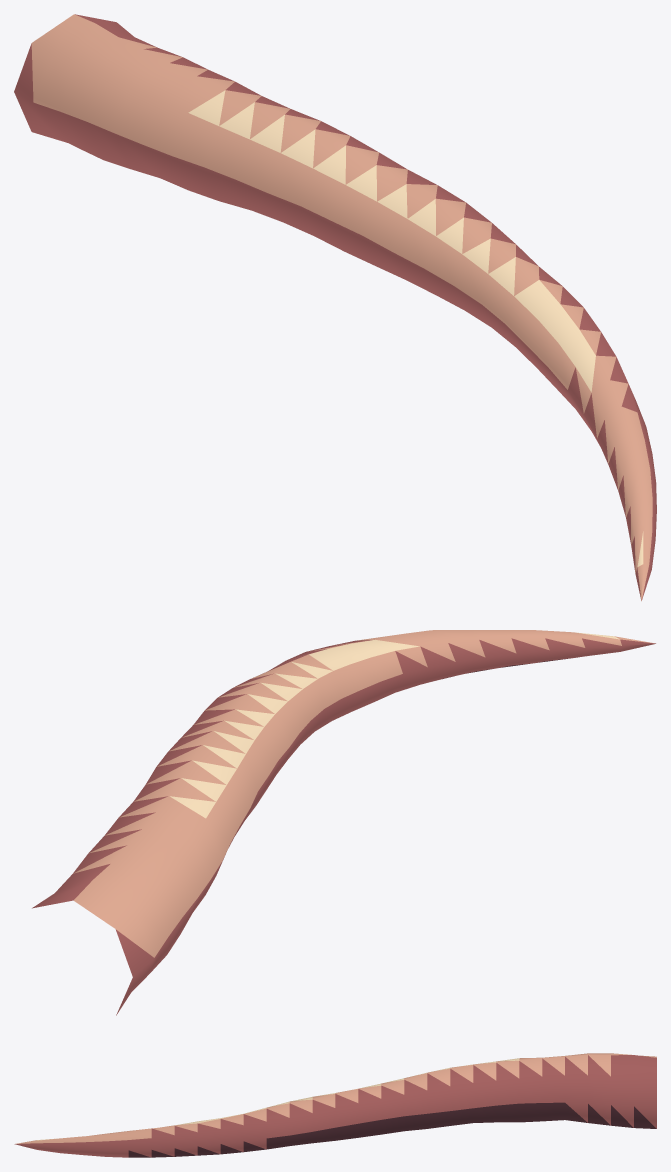
The model's file is sinew_tendril.glb.
The picture shows the model from 3 angles, top to bottom: view 1: azimuth 30°, elevation 25°; view 2: azimuth 150°, elevation 25°; view 3: azimuth 270°, elevation 25°; orthographic projection. The views are drawn at different scales.
Parts seen in each view (by area): view 1: sinew_tendril; view 2: sinew_tendril; view 3: sinew_tendril.
Part boxes in pixels (x1,y1,x2,y2): sinew_tendril: (14, 14, 656, 601); sinew_tendril: (32, 630, 655, 1015); sinew_tendril: (14, 1053, 656, 1157).
Size of the model in its own units: 0.6305 by 0.4878 by 3.
